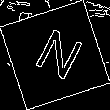N_SW: (26, 23, 84, 87)
